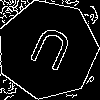U: (22, 24, 76, 81)
